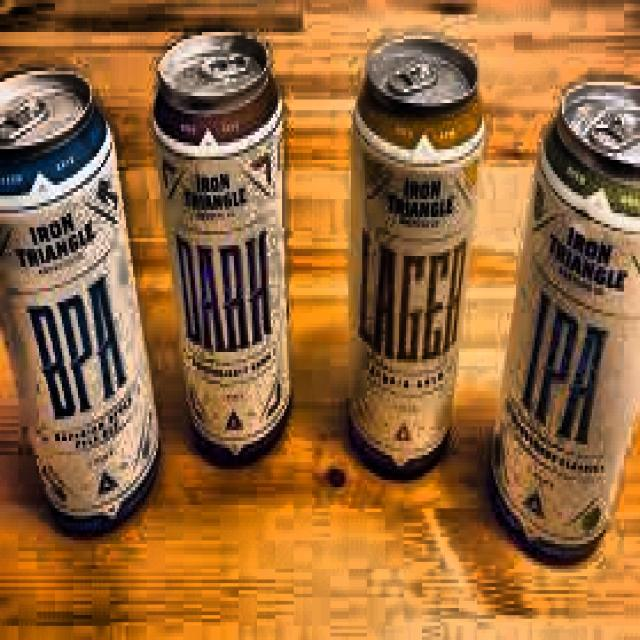can: (0, 63, 165, 544), (484, 75, 640, 569), (150, 24, 299, 472), (344, 32, 486, 489)
